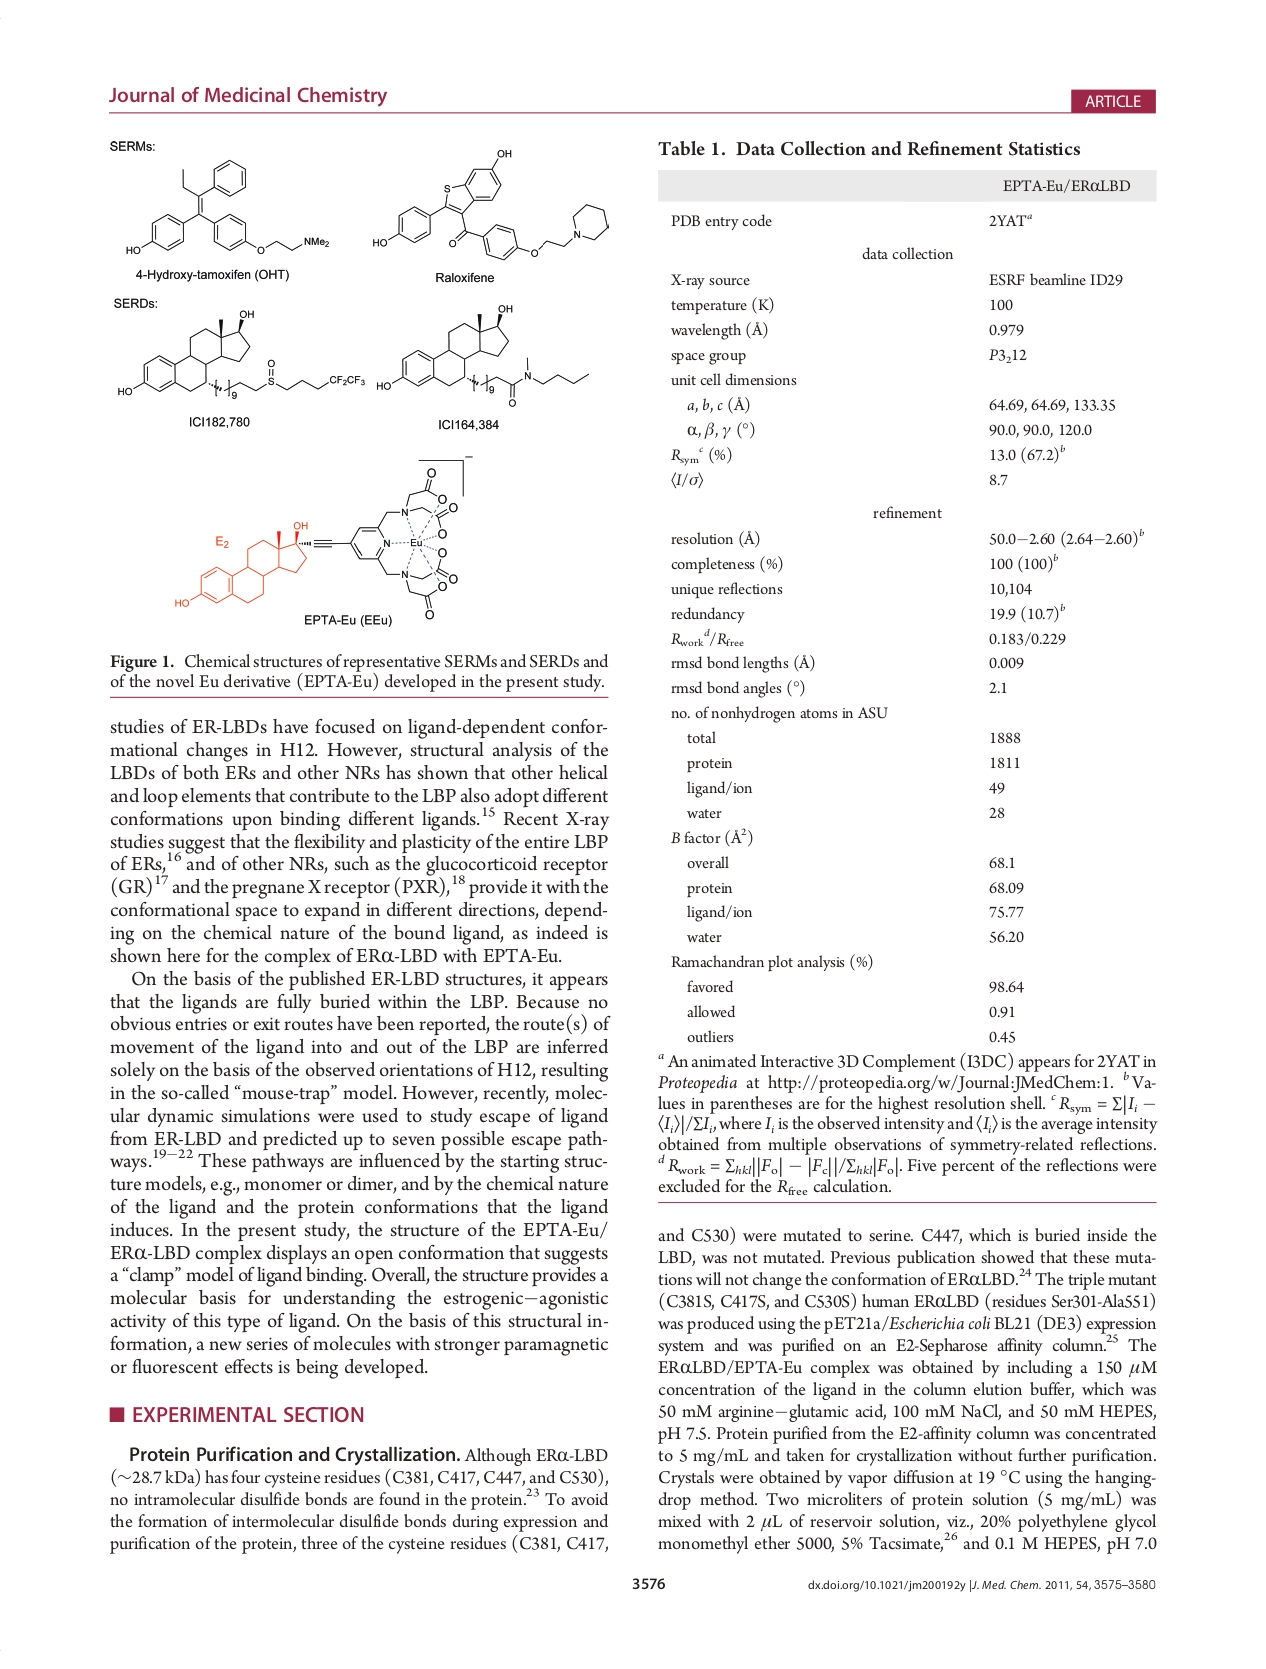exist_molecular: (173, 465, 461, 622), (372, 148, 613, 261), (375, 303, 592, 410), (116, 309, 366, 399), (125, 157, 332, 259)
